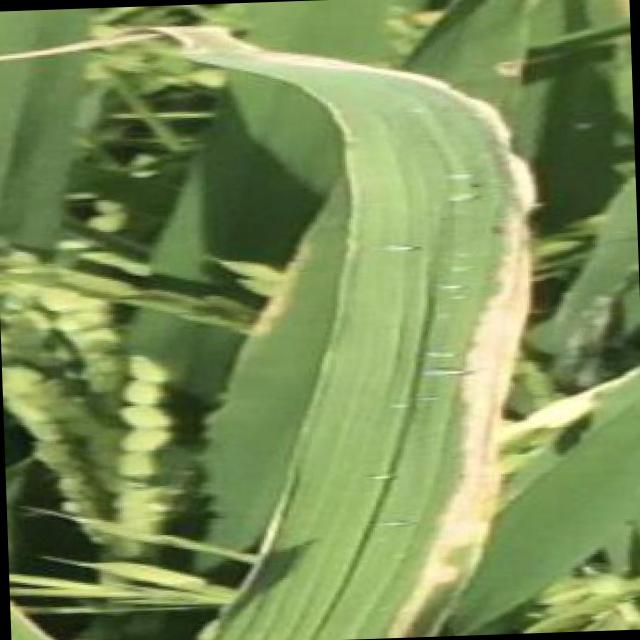Rice_Bacterial_Blight: (304, 93, 532, 598)
